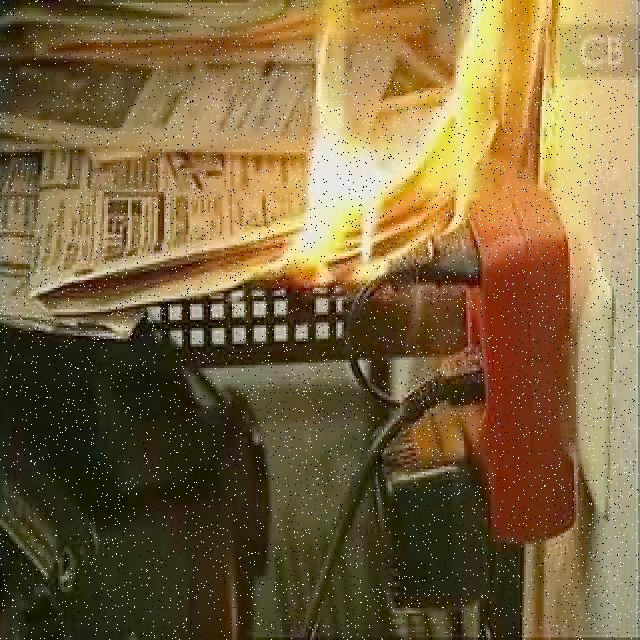fire: (302, 18, 491, 260)
